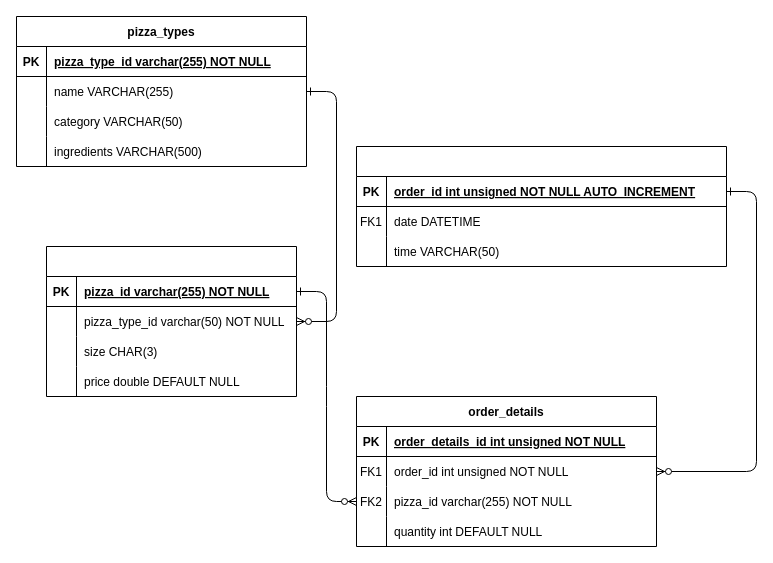
The diagram is 773 pixels wide and 563 high, and some of its shapes have lost their labels. Here are the shapes that lost their labels. From the top down, the box of each, then its label:
(356, 146, 726, 266): orders
(46, 246, 296, 396): pizzas
